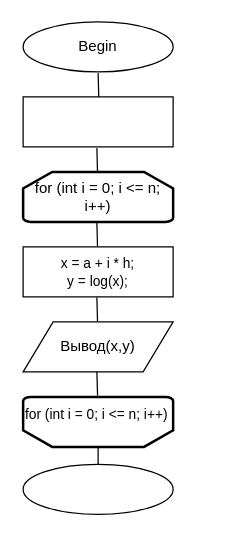
This 231x536 diagram has some shape labels left out. The centre of each missing label's shape, as x and y in pixels:
"End" belongs at (97,488).
"h = 0.1, a = 1, b = 1.5; n = 0.5 / h" belongs at (97,121).
